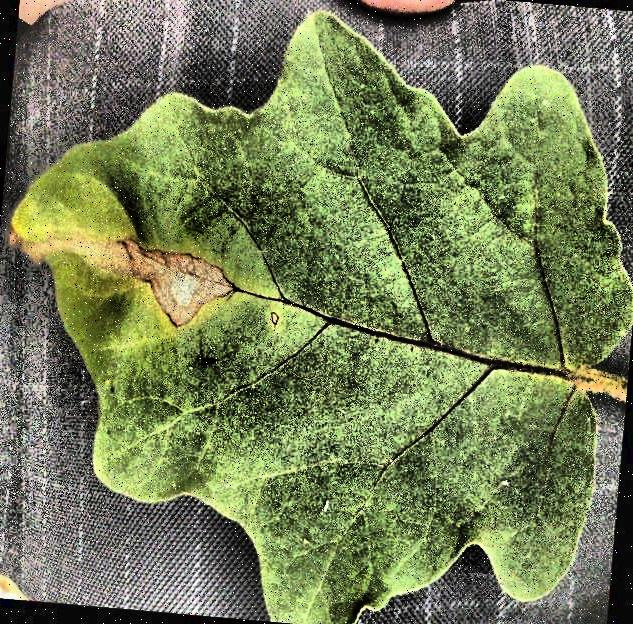Critical Stress: (1, 1, 633, 624)
